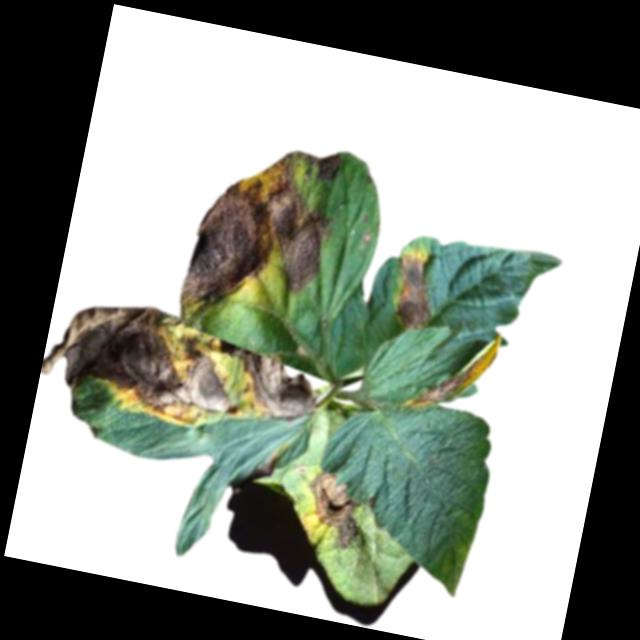Early_blight: (39, 291, 329, 451), (171, 137, 341, 341), (401, 317, 502, 424), (297, 466, 379, 556), (386, 245, 442, 335), (259, 440, 283, 475)
